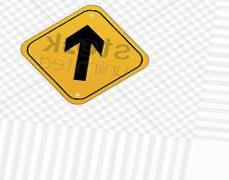forward: (19, 5, 149, 108)
